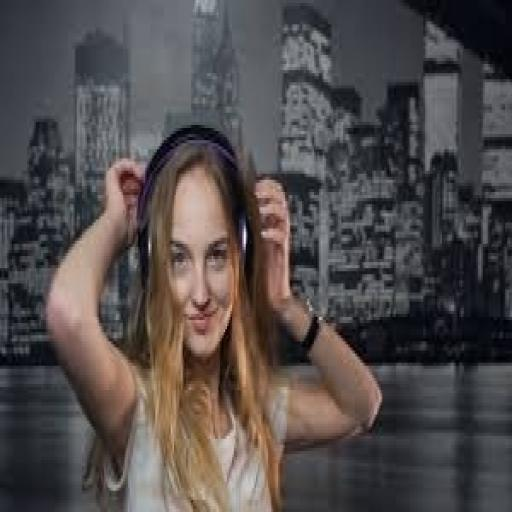listening_to_music: (42, 122, 386, 509)
